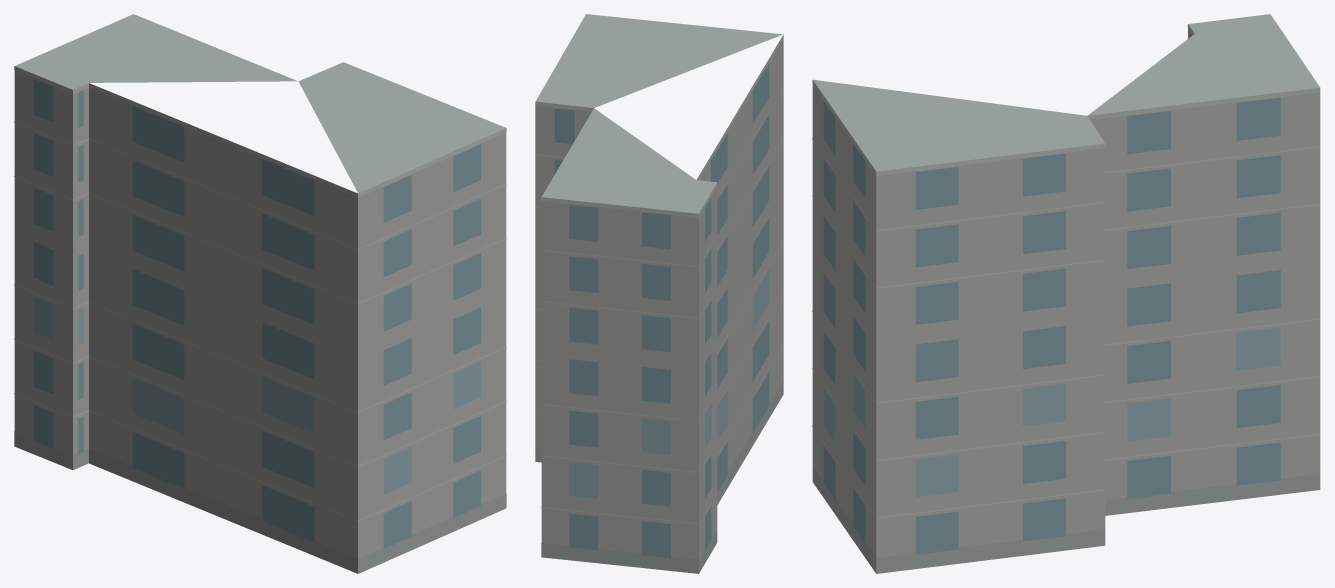
File: survey-upis-32903245.glb
3 renders of one model, left to right at view 1: azimuth 30°, elevation 25°; view 2: azimuth 150°, elevation 25°; view 3: azimuth 270°, elevation 25°, orthographic. The views are drawn at different scales.
Visible parts, largest first — view 1: survey-upis-32903245.tmp; view 2: survey-upis-32903245.tmp; view 3: survey-upis-32903245.tmp.
Boxes of the visible parts, box(x1,y1,x2,y2) form: survey-upis-32903245.tmp: box(14, 14, 506, 573); survey-upis-32903245.tmp: box(535, 14, 783, 573); survey-upis-32903245.tmp: box(812, 14, 1320, 573).
Size of the model in its own units: 18.01 by 21.4 by 24.5.
